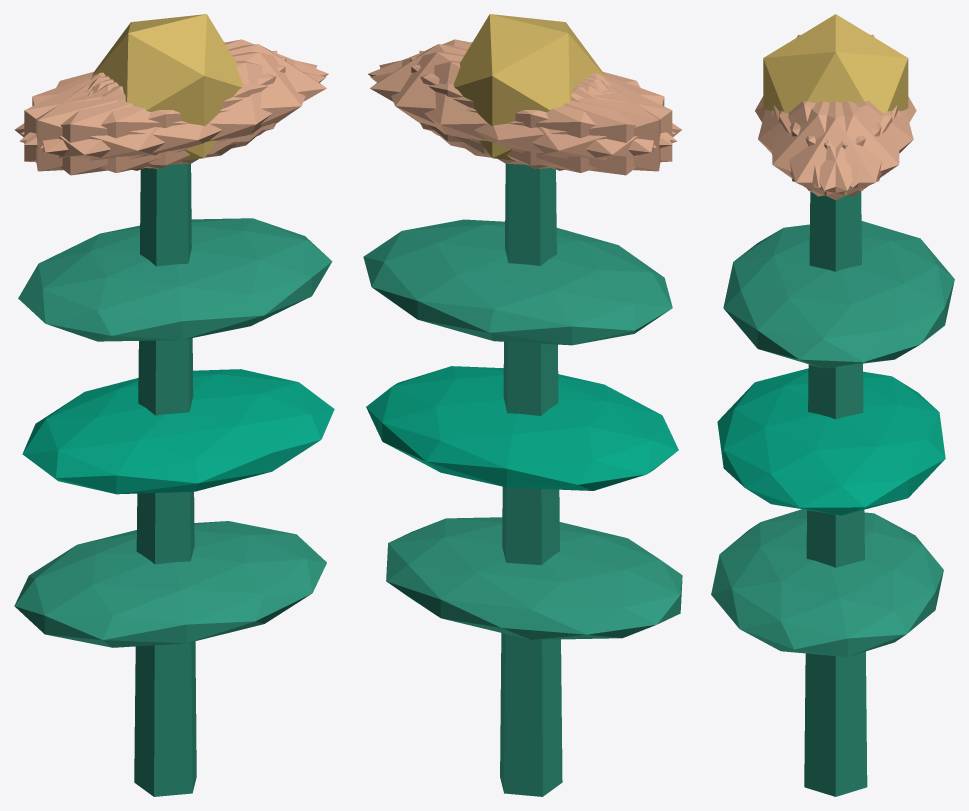
Rendered from calliandra-haematocephala.glb.
3 views of the same model, side by side, from view 1: azimuth 30°, elevation 25°; view 2: azimuth 150°, elevation 25°; view 3: azimuth 270°, elevation 25° (orthographic).
Parts seen in each view (by area): view 1: leaf0, leaf1, leaf2, stem, center, petal1, petal6, petal2, petal5, petal7, petal0, petal4 (+2 smaller); view 2: leaf2, leaf1, leaf0, stem, center, petal8, petal3, petal7, petal4, petal2, petal0, petal5 (+2 smaller); view 3: leaf2, leaf1, leaf0, stem, center, petal0, petal5, petal4, petal8, petal1.
Boxes of the visible parts, <box> form: leaf0: <box>14,521,326,647</box>; leaf1: <box>22,369,334,494</box>; leaf2: <box>18,218,332,341</box>; stem: <box>134,163,196,796</box>; center: <box>92,14,242,160</box>; petal1: <box>19,60,325,172</box>; petal6: <box>14,74,236,175</box>; petal2: <box>36,50,277,171</box>; petal5: <box>40,52,317,165</box>; petal7: <box>24,57,286,168</box>; petal0: <box>91,44,326,154</box>; petal4: <box>21,39,328,145</box>; leaf2: <box>363,219,672,345</box>; leaf1: <box>366,366,678,490</box>; leaf0: <box>386,517,682,639</box>; stem: <box>500,163,562,796</box>; center: <box>453,14,604,160</box>; petal8: <box>370,60,677,172</box>; petal3: <box>460,74,681,175</box>; petal7: <box>419,50,660,171</box>; petal4: <box>379,52,656,165</box>; petal2: <box>410,57,672,168</box>; petal0: <box>370,44,604,154</box>; petal5: <box>368,39,675,145</box>; leaf2: <box>723,221,954,368</box>; leaf1: <box>717,368,945,515</box>; leaf0: <box>711,509,943,656</box>; stem: <box>804,191,867,796</box>; center: <box>763,14,908,112</box>; petal0: <box>773,101,897,199</box>; petal5: <box>771,101,892,196</box>; petal4: <box>779,101,899,196</box>; petal8: <box>790,101,913,187</box>; petal1: <box>758,101,881,187</box>.
Size of the model in its own units: 0.1452 by 0.3497 by 0.103.
